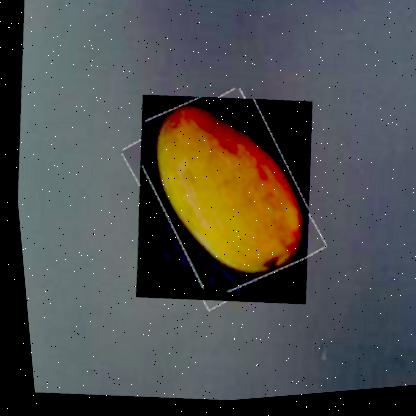mango: (115, 85, 323, 319)
